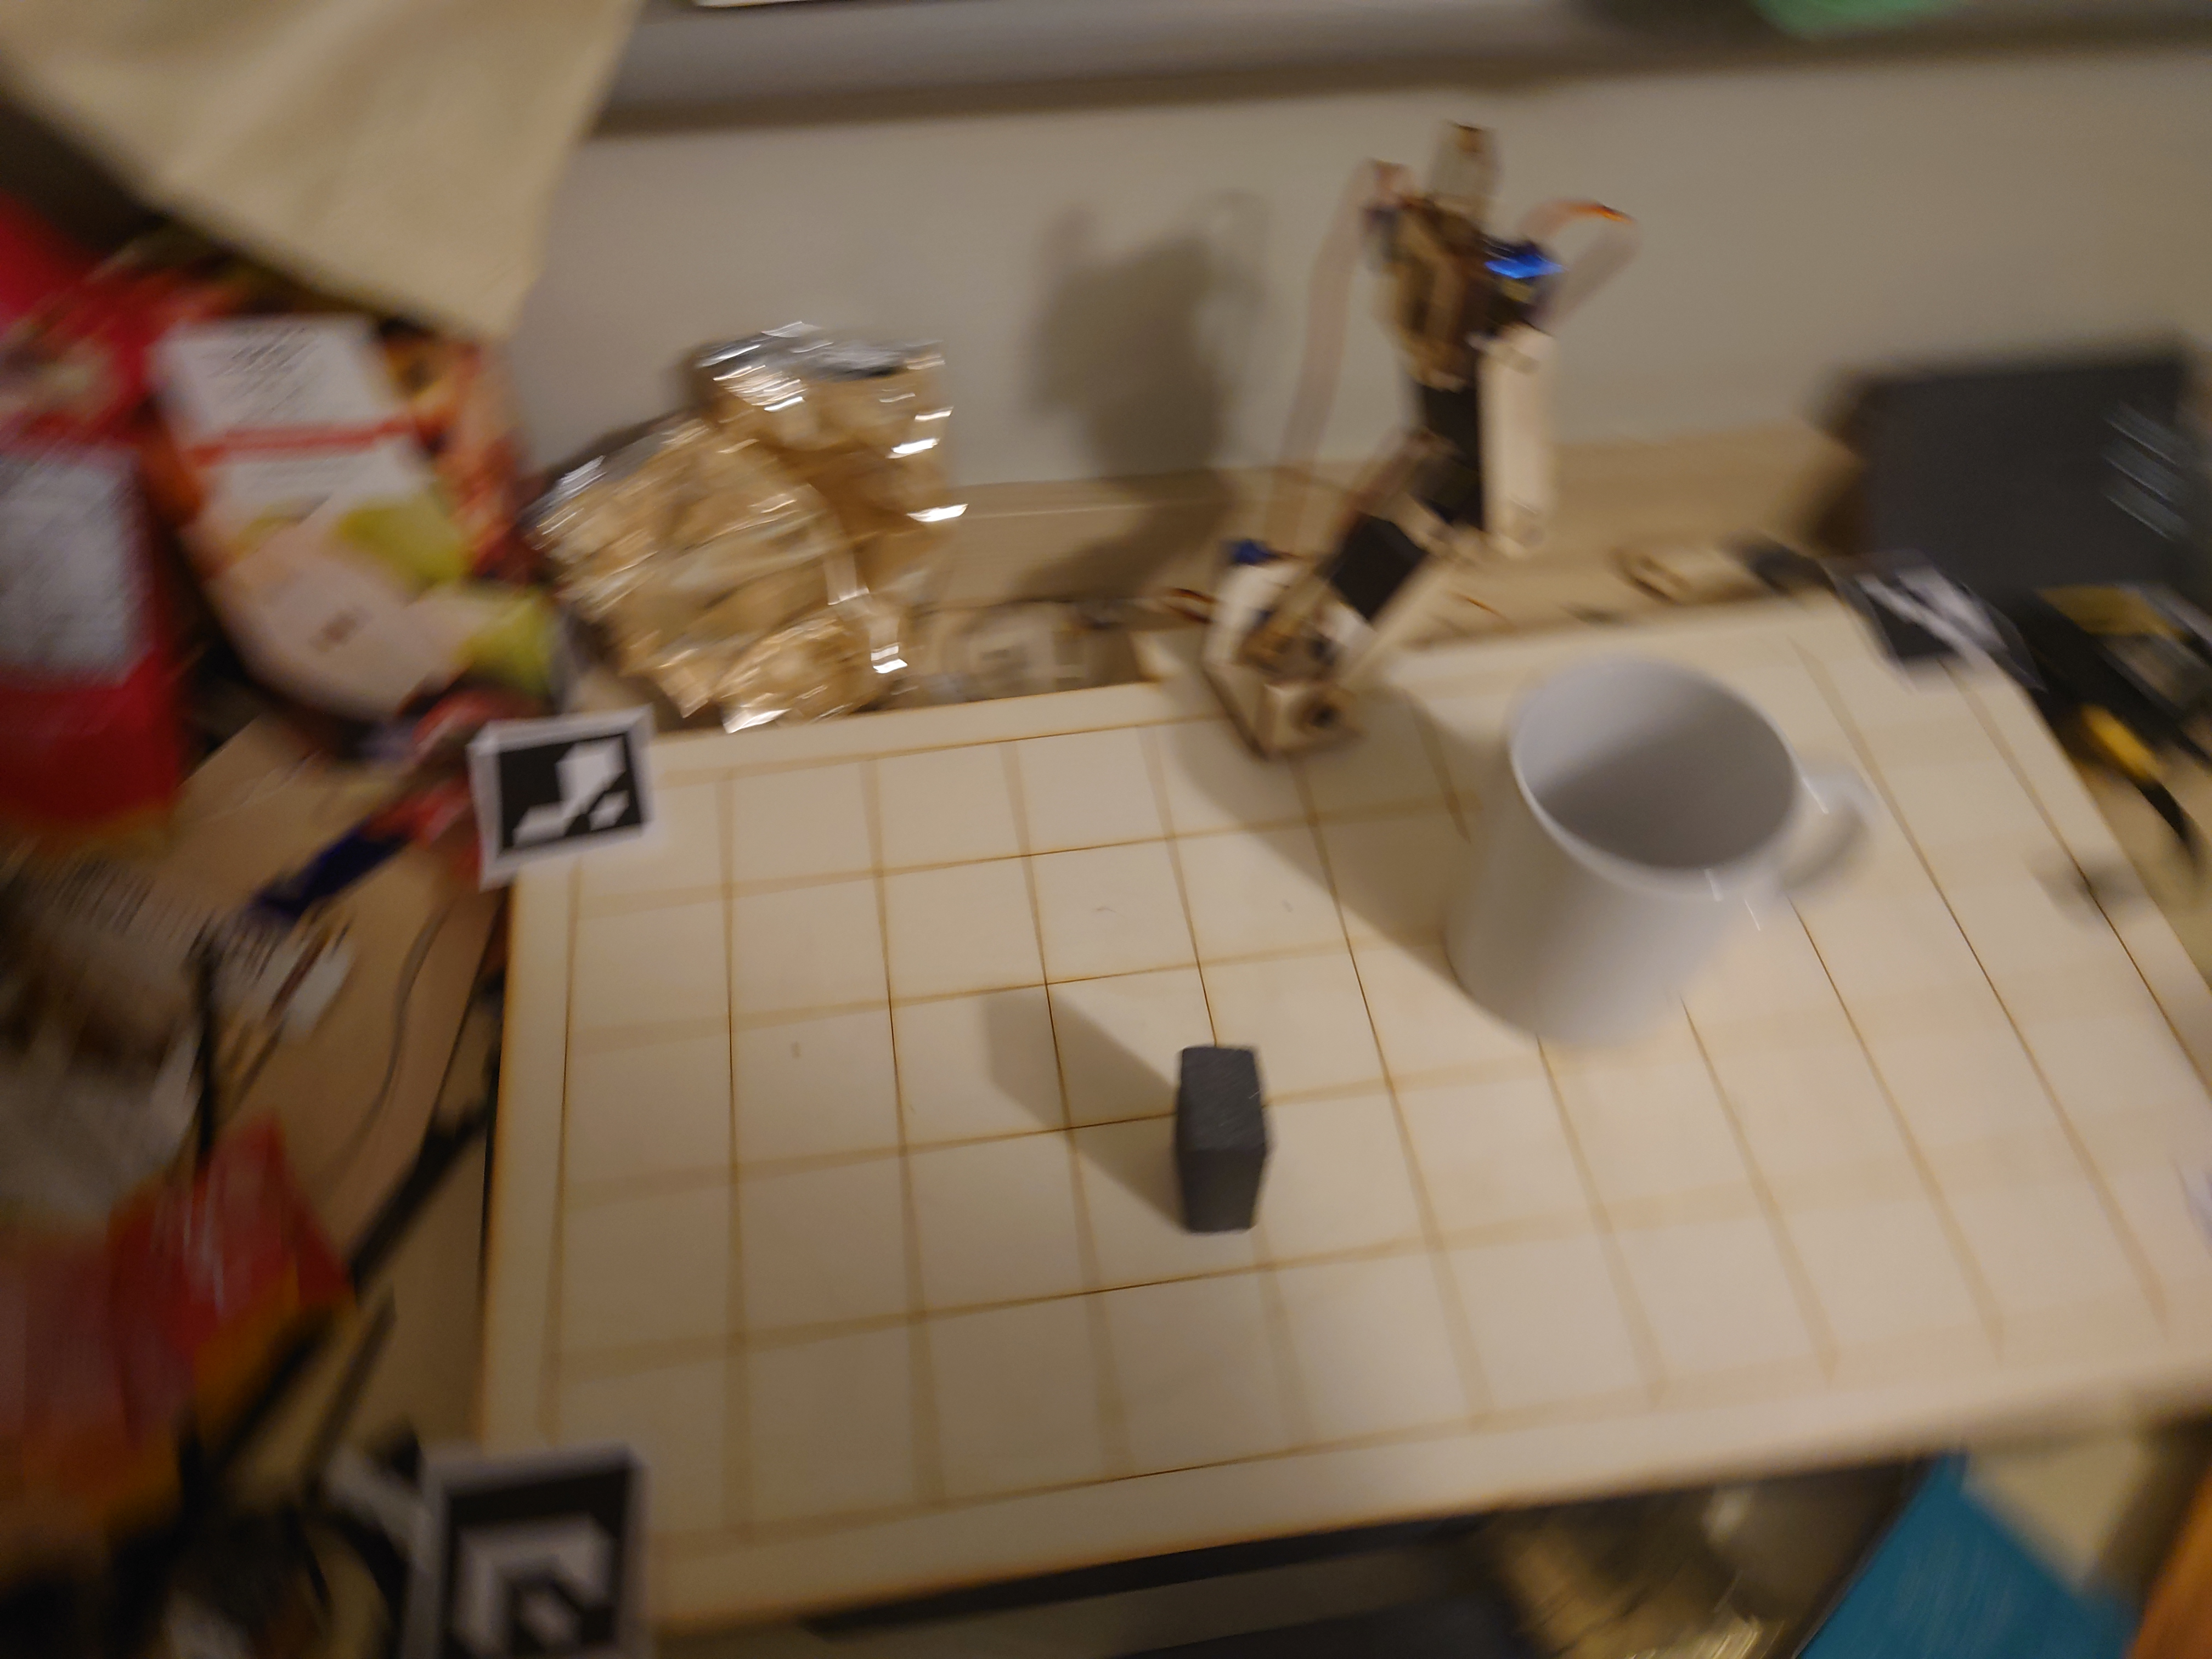cup: (1440, 647, 1879, 1058)
target: (1160, 1033, 1264, 1239)
